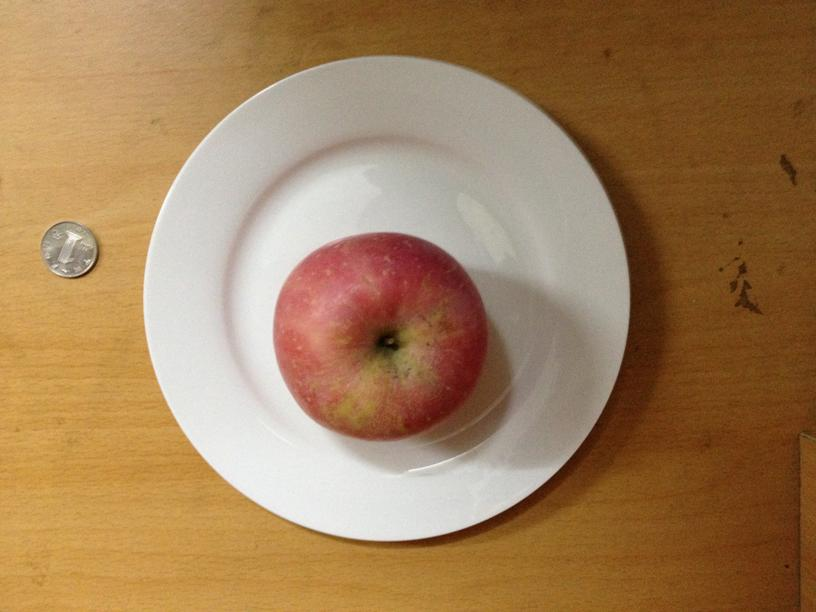apple: (270, 230, 489, 440)
coin: (39, 220, 98, 277)
